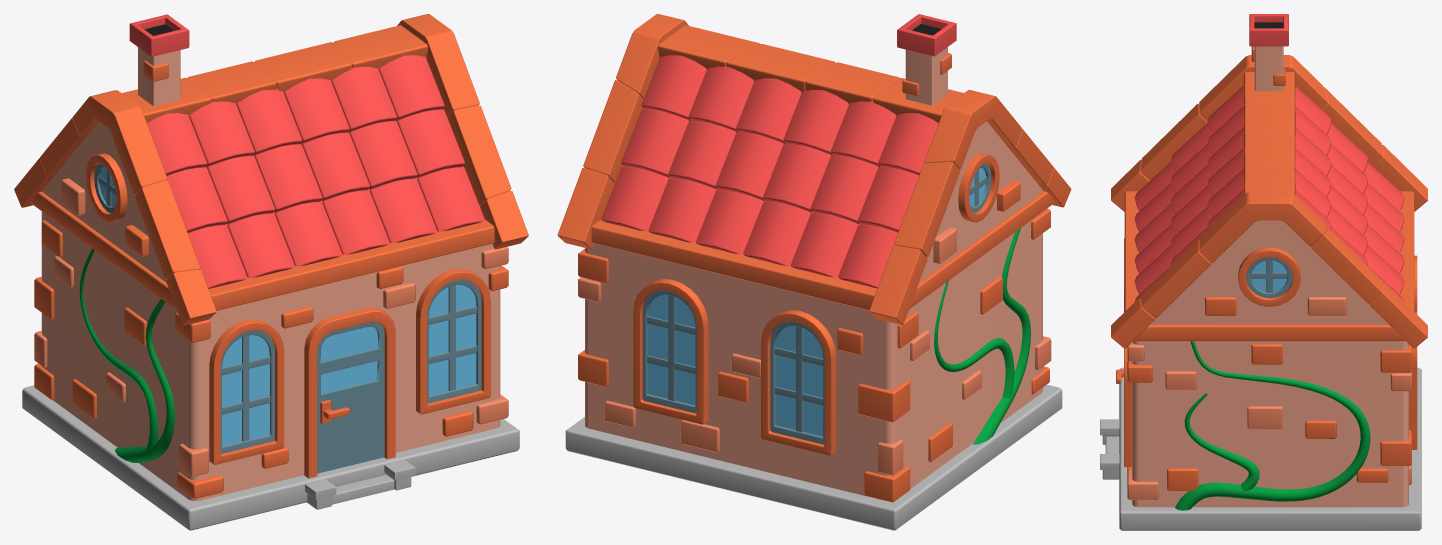
Rendered from Town_2_House_1.glb.
3 views of the same model, side by side, from view 1: azimuth 30°, elevation 25°; view 2: azimuth 150°, elevation 25°; view 3: azimuth 270°, elevation 25° (orthographic). The views are drawn at different scales.
Visible parts, largest first — view 1: Town_2_House_1; view 2: Town_2_House_1; view 3: Town_2_House_1.
Boxes of the visible parts, left/top/right/bottom form: Town_2_House_1: left=14, top=14, right=528, bottom=530; Town_2_House_1: left=557, top=14, right=1071, bottom=530; Town_2_House_1: left=1100, top=14, right=1427, bottom=530.
Size of the model in its own units: 6.63 by 8.07 by 6.18.
Materials: 1 (1 with a texture image).
